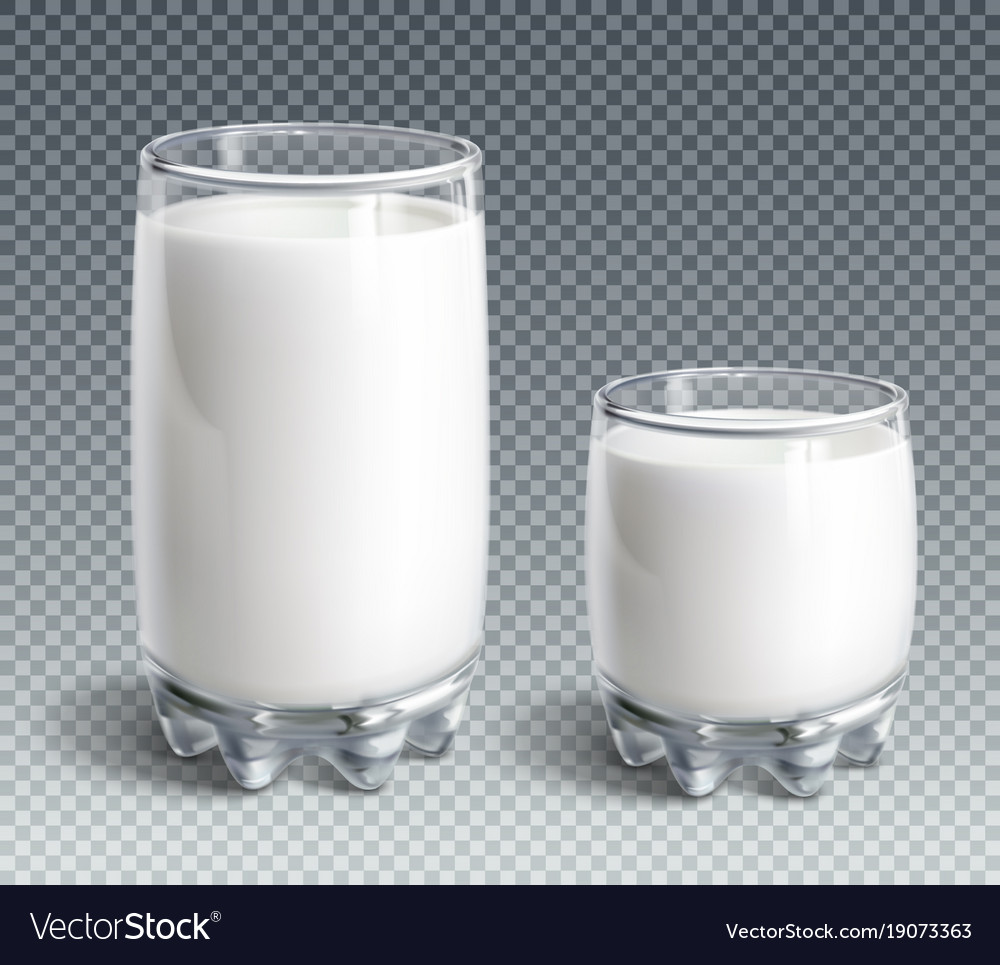glass of milk: (152, 143, 475, 773), (585, 368, 927, 783)
